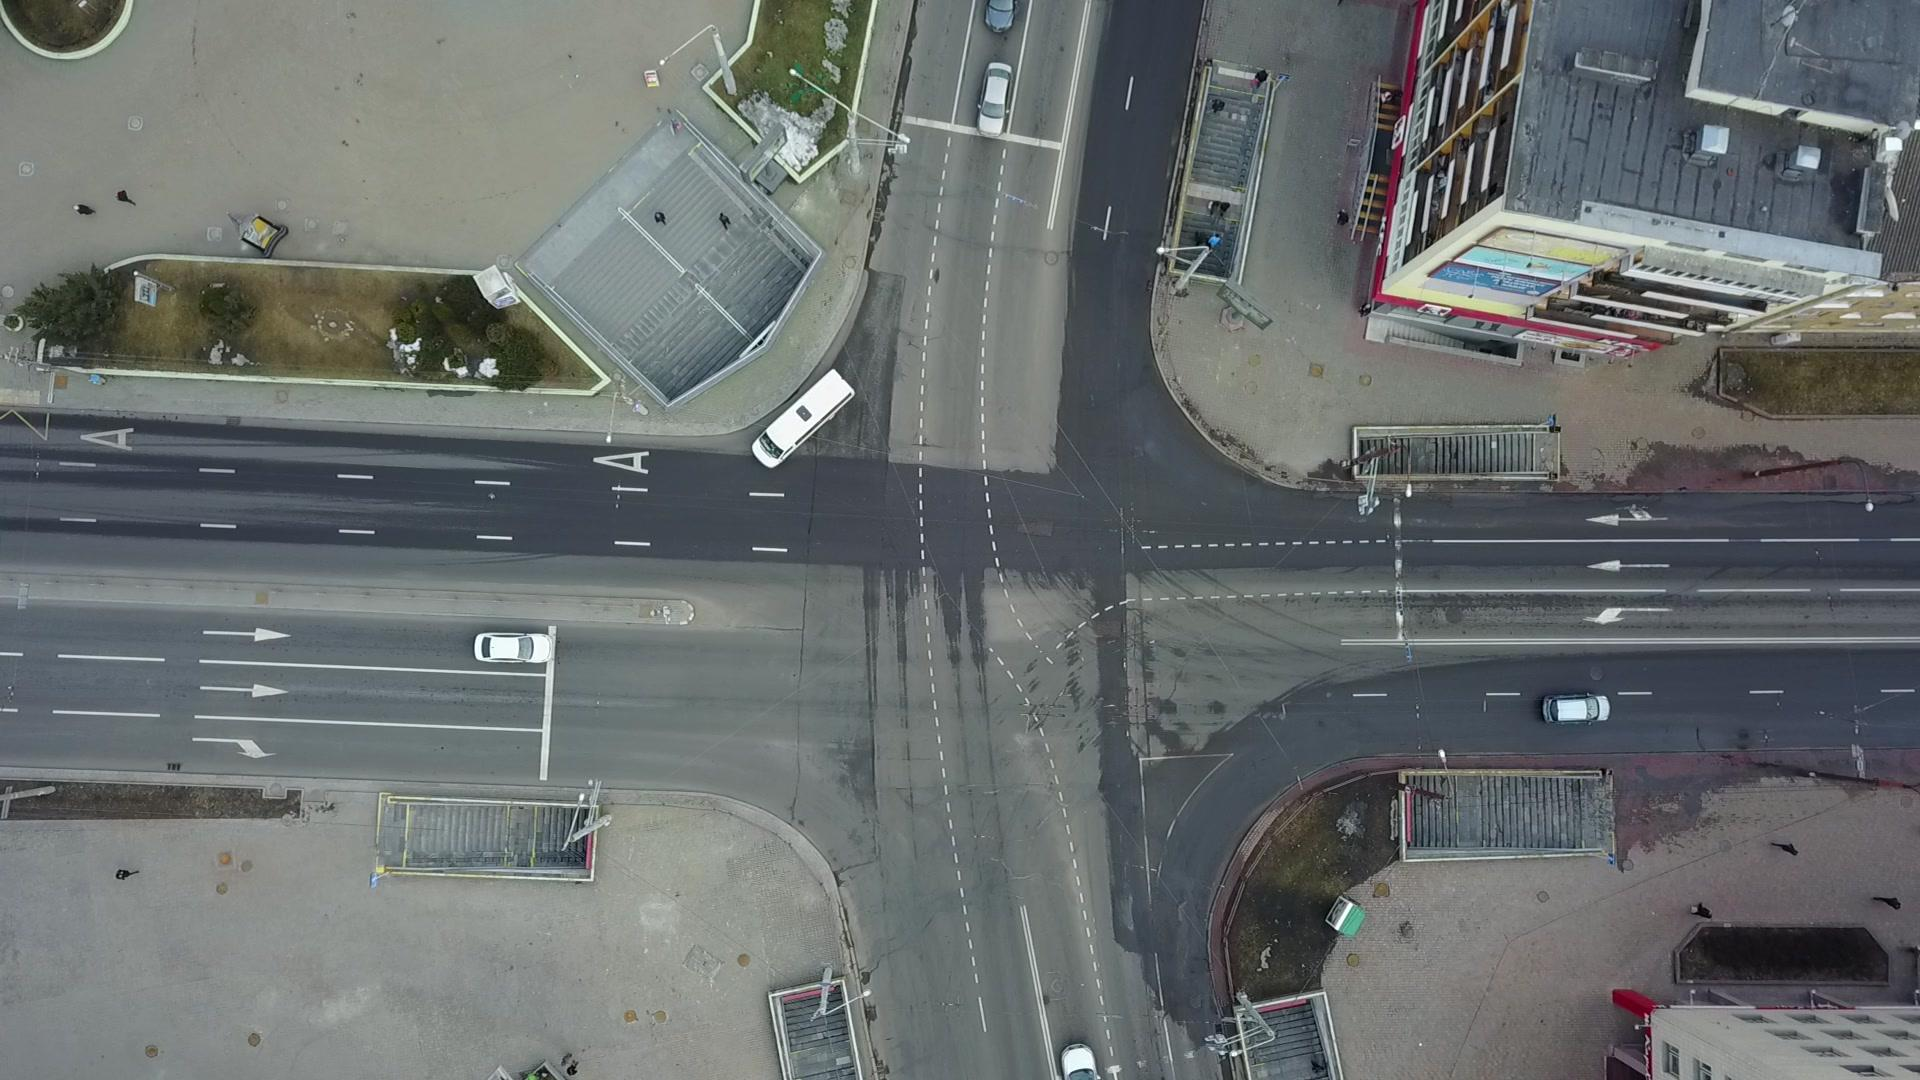car: (469, 626, 556, 667), (973, 57, 1017, 138), (1536, 688, 1615, 727)
